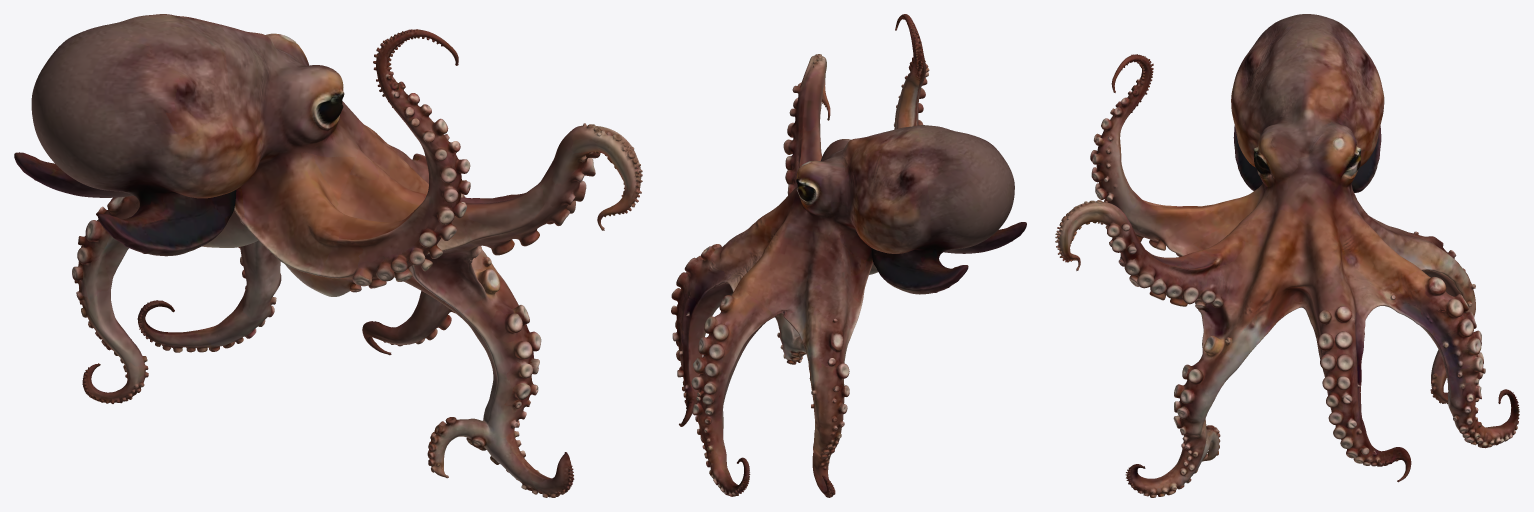
The model's file is octopus.glb.
3 renders of one model, left to right at view 1: azimuth 30°, elevation 25°; view 2: azimuth 150°, elevation 25°; view 3: azimuth 270°, elevation 25°, orthographic. The views are drawn at different scales.
Parts seen in each view (by area): view 1: tripo_node_fd26e13f-c2dd-47f5-83d1-dc7b2cbe9c54; view 2: tripo_node_fd26e13f-c2dd-47f5-83d1-dc7b2cbe9c54; view 3: tripo_node_fd26e13f-c2dd-47f5-83d1-dc7b2cbe9c54.
Boxes of the visible parts, box(x1,y1,x2,y2) form: tripo_node_fd26e13f-c2dd-47f5-83d1-dc7b2cbe9c54: box(14, 14, 642, 497); tripo_node_fd26e13f-c2dd-47f5-83d1-dc7b2cbe9c54: box(671, 14, 1026, 497); tripo_node_fd26e13f-c2dd-47f5-83d1-dc7b2cbe9c54: box(1055, 14, 1519, 497).
Bounding box in the file's own units: 0.8321 × 0.9032 × 0.9808.
Materials: 1 (1 with a texture image).
